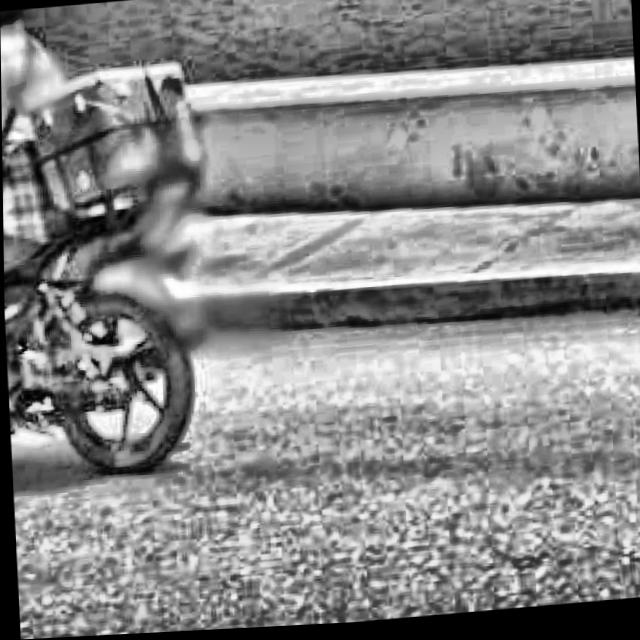motorcycle: (0, 26, 248, 490)
